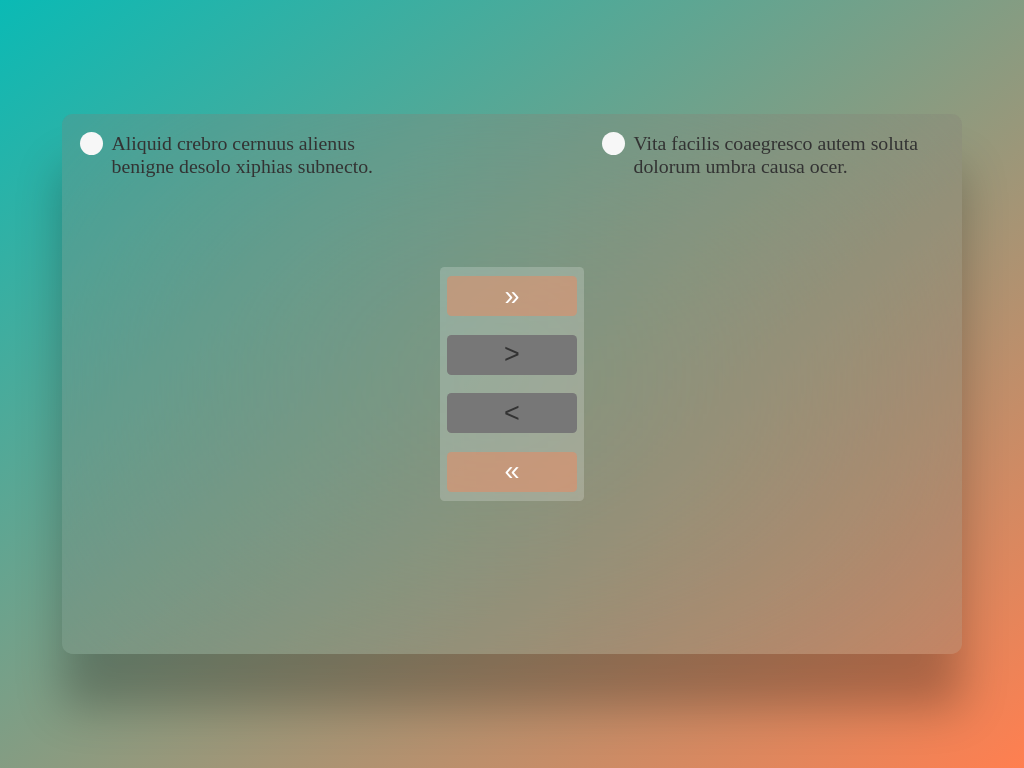
Scenario: TransferList › makes sure that move left buttons gets disabled after moving all items to left side
Expected: the list with test id "list-left-container" is not empty, [80, 132, 422, 189]
Click the button named "move all left". click: [512, 472]
box: [447, 452, 577, 492]
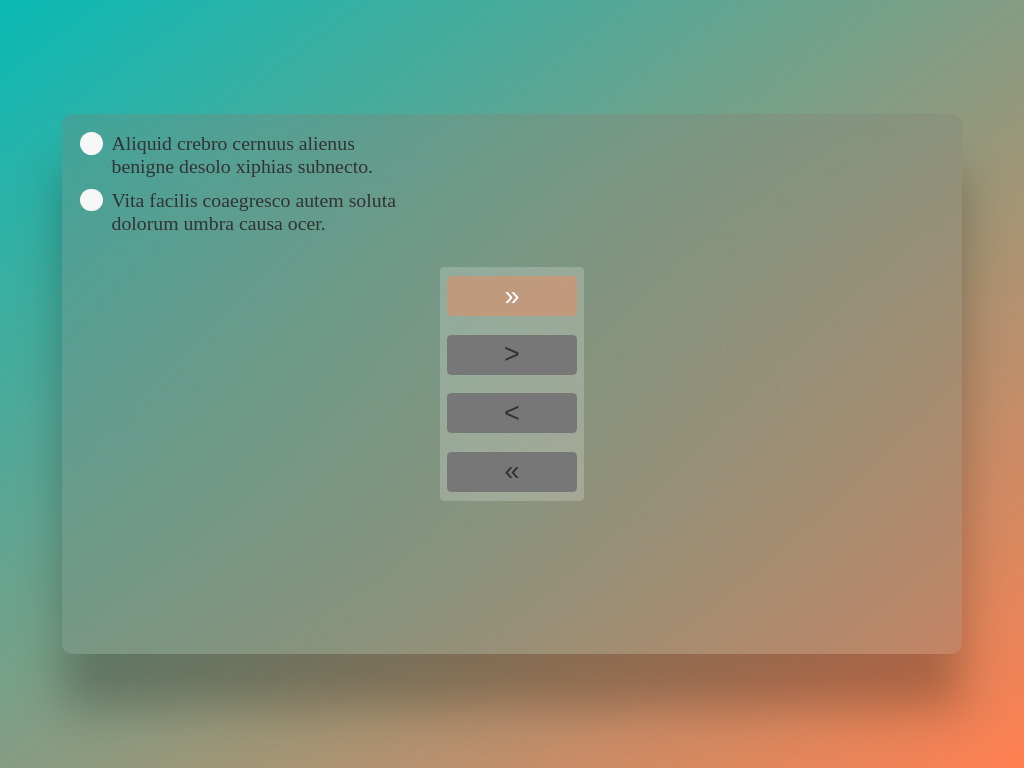
Expected: the button named "move selected left" is disabled, [447, 393, 577, 433]
Expected: the button named "move all left" is disabled, [447, 452, 577, 492]
